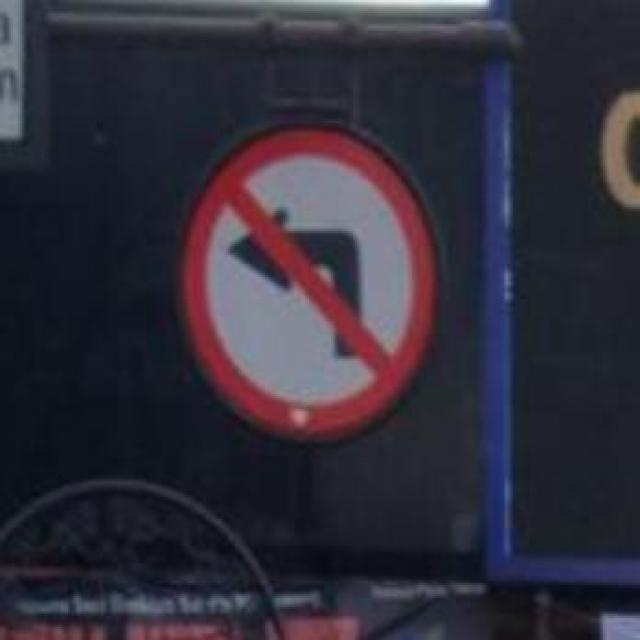traffic sign: (192, 134, 431, 431)
